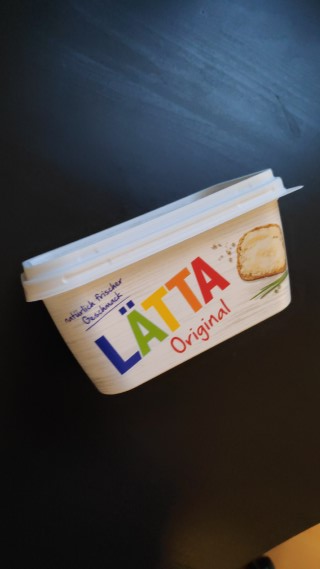laetta: (21, 167, 320, 396)
